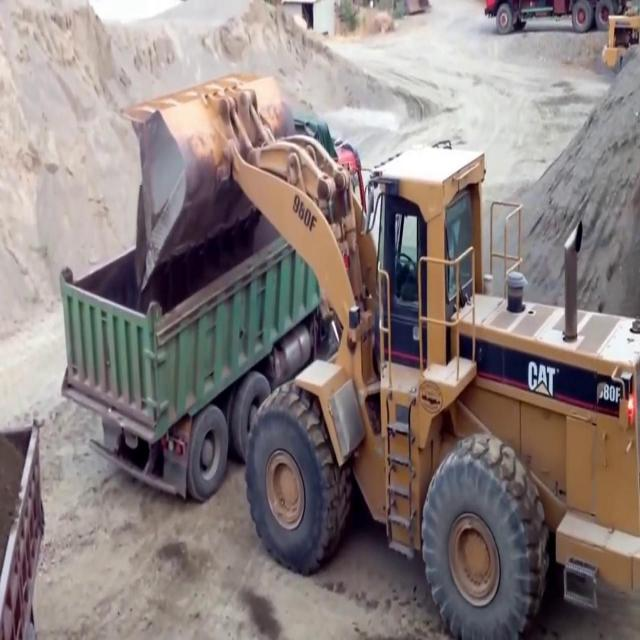Dump Truck: (56, 124, 364, 502)
Loader: (116, 70, 640, 639)
